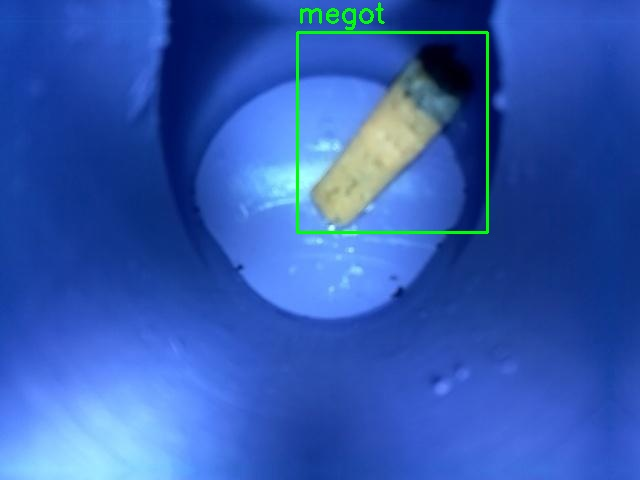megot: (297, 32, 487, 232)
